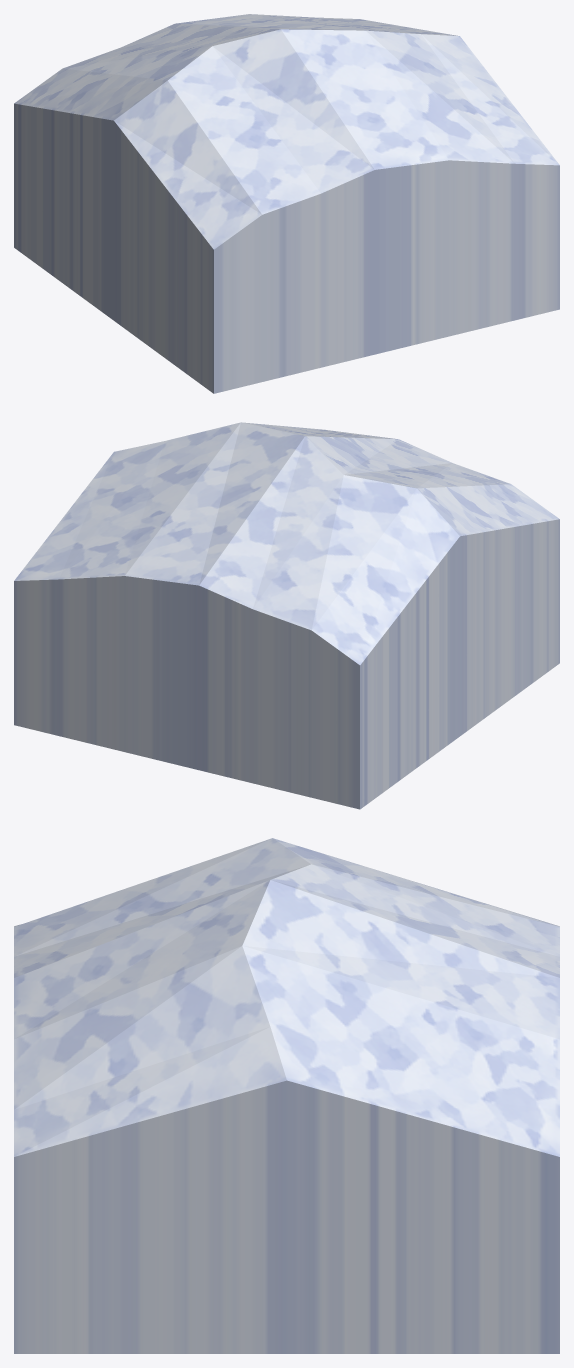
The model's file is snow_post_cap.glb.
3 renders of one model, top to bottom at view 1: azimuth 30°, elevation 25°; view 2: azimuth 150°, elevation 25°; view 3: azimuth 270°, elevation 25°, orthographic. The views are drawn at different scales.
Visible parts, largest first — view 1: winter_snow_post_cap; view 2: winter_snow_post_cap; view 3: winter_snow_post_cap.
Boxes of the visible parts, x1=… form: winter_snow_post_cap: x1=14, y1=14, x2=559, y2=393; winter_snow_post_cap: x1=14, y1=422, x2=559, y2=809; winter_snow_post_cap: x1=14, y1=838, x2=559, y2=1353.
Size of the model in its own units: 0.12 by 0.085 by 0.12.
1 material, 1 textured.
